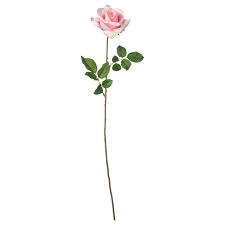lale: (82, 0, 142, 161)
